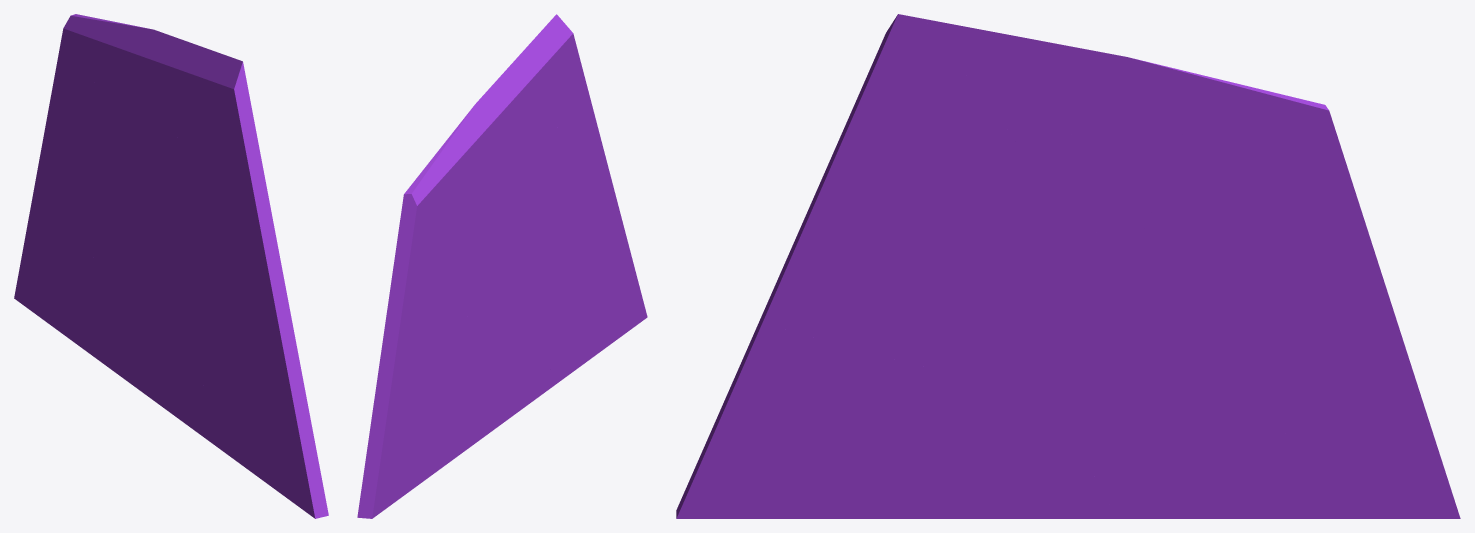
File: Glass_77_13_chunks.fbx
The picture shows the model from 3 angles, left to right: view 1: azimuth 30°, elevation 25°; view 2: azimuth 150°, elevation 25°; view 3: azimuth 270°, elevation 25°; orthographic projection. The views are drawn at different scales.
Parts seen in each view (by area): view 1: Glass_77_13_1, Glass_77_13_9, Glass_77_13_5, Glass_77_13_2, Glass_77_13_8, Glass_77_13_6, Glass_77_13_11, Glass_77_13_4, Glass_77_13_7, Glass_77_13_15, Glass_77_13_14, Glass_77_13_12 (+2 smaller); view 2: Glass_77_13_5, Glass_77_13_1, Glass_77_13_9, Glass_77_13_2, Glass_77_13_8, Glass_77_13_4, Glass_77_13_6, Glass_77_13_11, Glass_77_13_7, Glass_77_13_15, Glass_77_13_14, Glass_77_13_12 (+2 smaller); view 3: Glass_77_13_5, Glass_77_13_9, Glass_77_13_1, Glass_77_13_2, Glass_77_13_15, Glass_77_13_3, Glass_77_13_7, Glass_77_13_10, Glass_77_13_8, Glass_77_13_6, Glass_77_13_12, Glass_77_13_11 (+4 smaller).
Boxes of the visible parts, x1,y1,x2,y2 form: Glass_77_13_1: (185, 302, 328, 518); Glass_77_13_9: (150, 132, 295, 346); Glass_77_13_5: (14, 108, 94, 326); Glass_77_13_2: (61, 191, 190, 319); Glass_77_13_8: (163, 58, 264, 194); Glass_77_13_6: (86, 129, 145, 265); Glass_77_13_11: (121, 26, 169, 195); Glass_77_13_4: (49, 14, 95, 140); Glass_77_13_7: (94, 18, 136, 137); Glass_77_13_15: (134, 317, 214, 426); Glass_77_13_14: (122, 337, 220, 449); Glass_77_13_12: (52, 314, 135, 367); Glass_77_13_5: (357, 279, 445, 518); Glass_77_13_1: (528, 204, 647, 380); Glass_77_13_9: (496, 103, 617, 243); Glass_77_13_2: (415, 233, 533, 469); Glass_77_13_8: (508, 14, 591, 157); Glass_77_13_4: (391, 167, 445, 298); Glass_77_13_6: (438, 208, 492, 380); Glass_77_13_11: (459, 110, 514, 244); Glass_77_13_7: (422, 136, 483, 256); Glass_77_13_15: (481, 310, 555, 390); Glass_77_13_14: (471, 368, 560, 446); Glass_77_13_12: (407, 376, 483, 492); Glass_77_13_5: (1236, 225, 1460, 518); Glass_77_13_9: (760, 141, 1103, 322); Glass_77_13_1: (676, 320, 988, 518); Glass_77_13_2: (1014, 254, 1328, 480); Glass_77_13_15: (897, 373, 1153, 516); Glass_77_13_3: (762, 268, 1029, 384); Glass_77_13_7: (1149, 74, 1277, 247); Glass_77_13_10: (924, 19, 1141, 150); Glass_77_13_8: (834, 14, 1015, 149); Glass_77_13_6: (1130, 219, 1254, 379); Glass_77_13_12: (1145, 421, 1362, 518); Glass_77_13_11: (1055, 60, 1175, 245).
Size of the model in its own units: 27.2 by 749 by 1054.
